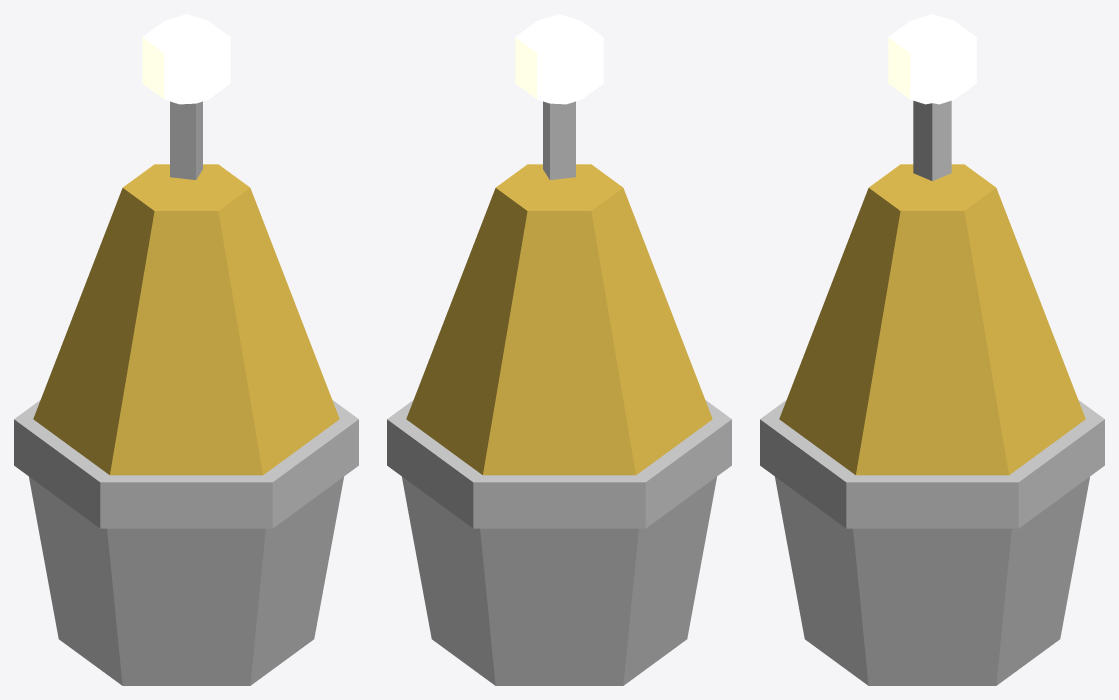
Rendered from buoy.glb.
3 renders of one model, left to right at view 1: azimuth 30°, elevation 25°; view 2: azimuth 150°, elevation 25°; view 3: azimuth 270°, elevation 25°, orthographic.
Parts seen in each view (by area): view 1: Body, Float; view 2: Body, Float; view 3: Body, Float.
Boxes of the visible parts, box(x1,y1,x2,y2) form: Body: box(14, 14, 358, 685); Float: box(33, 164, 339, 475); Body: box(387, 14, 731, 685); Float: box(406, 164, 712, 475); Body: box(760, 14, 1104, 685); Float: box(779, 164, 1085, 475).
Bounding box in the file's own units: 0.4677 × 1.08 × 0.54.
